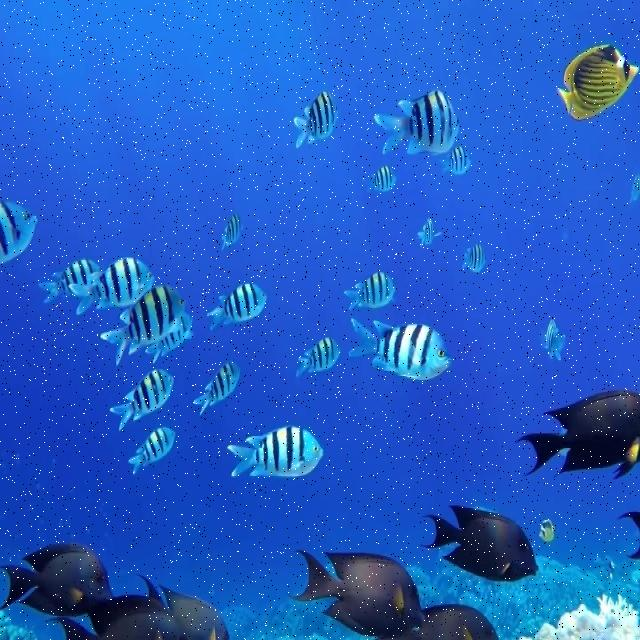fish: (227, 393, 639, 477), (293, 548, 420, 634), (46, 574, 178, 639), (423, 508, 537, 581), (5, 545, 112, 615), (99, 286, 186, 367), (349, 319, 453, 381), (557, 44, 639, 118), (376, 89, 463, 157), (70, 258, 153, 314), (377, 605, 499, 639), (155, 586, 229, 639), (110, 369, 173, 429), (208, 281, 268, 328), (38, 261, 101, 304), (192, 361, 240, 416), (294, 90, 340, 145), (146, 310, 194, 361), (128, 427, 176, 476), (1, 202, 38, 262), (344, 271, 396, 309), (297, 337, 340, 377), (441, 145, 472, 185), (217, 212, 244, 253), (464, 225, 486, 272), (365, 164, 398, 191), (417, 219, 443, 250), (547, 323, 565, 360)
